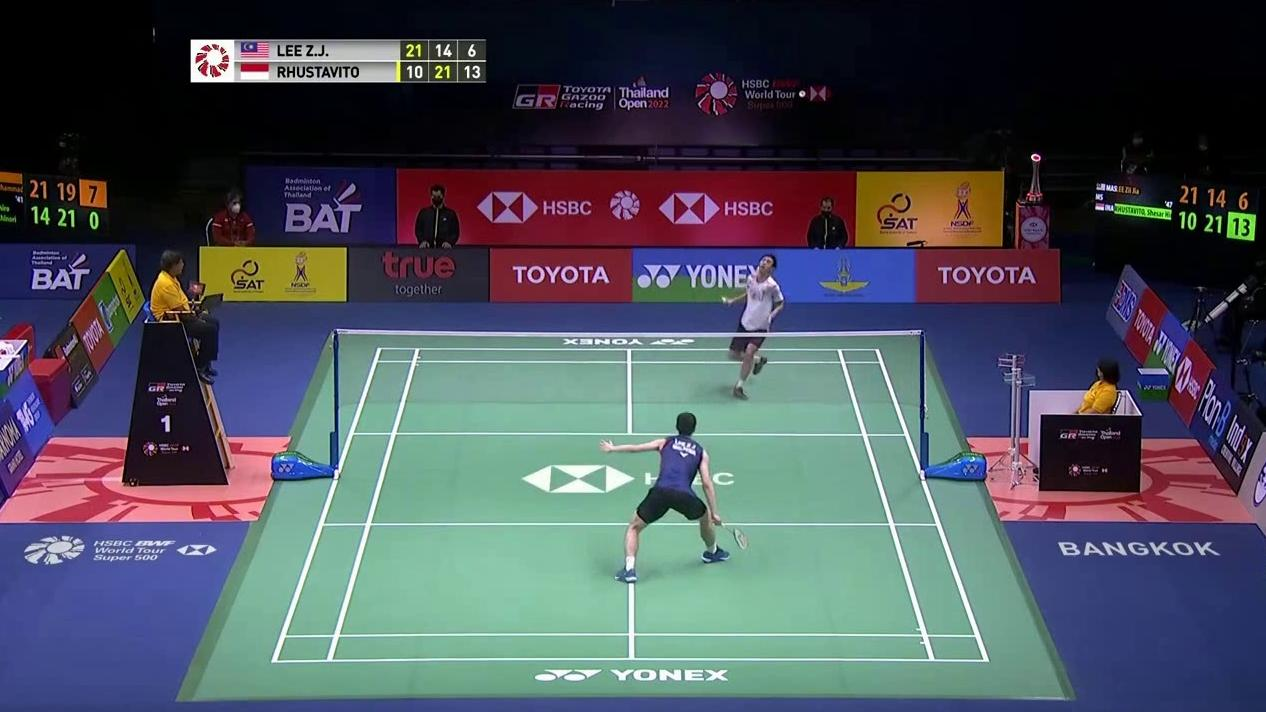racket: (711, 516, 752, 552), (696, 272, 729, 306)
shuttle: (798, 89, 807, 98)
